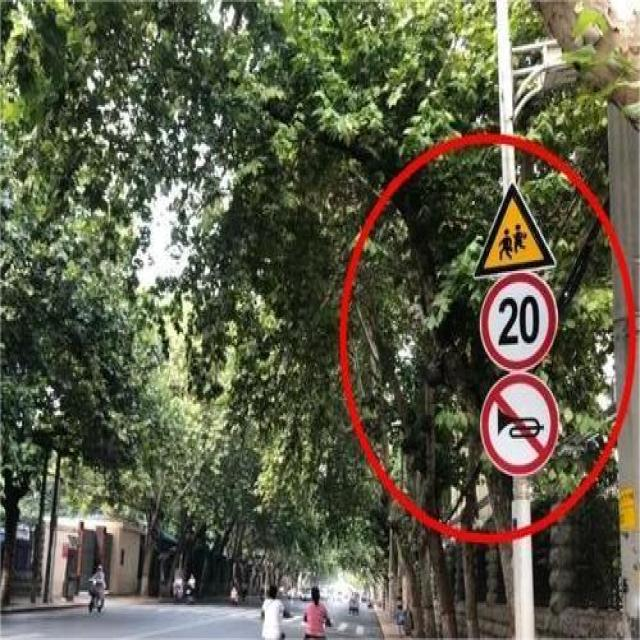speed limit 20: (479, 271, 560, 370)
